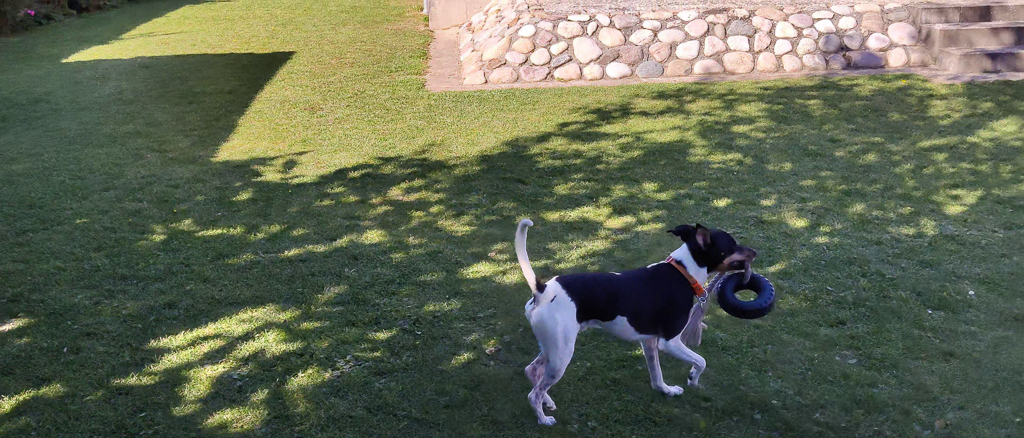Dog: (505, 203, 762, 429)
